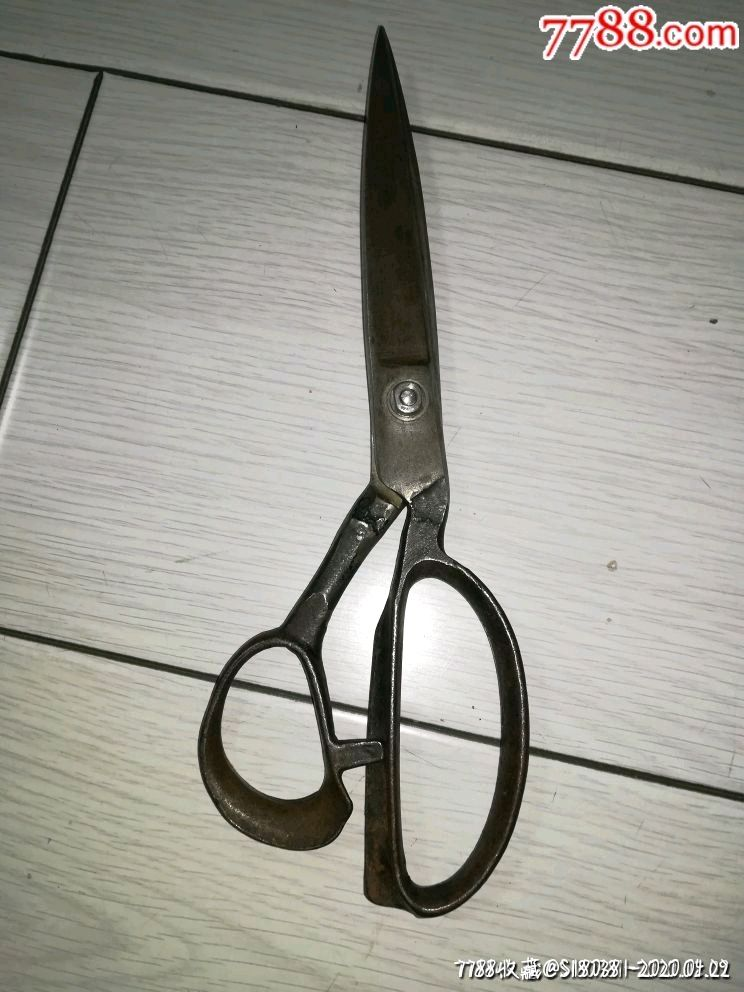scissor: (194, 24, 535, 921)
